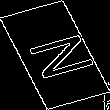N_E: (14, 27, 96, 83)
